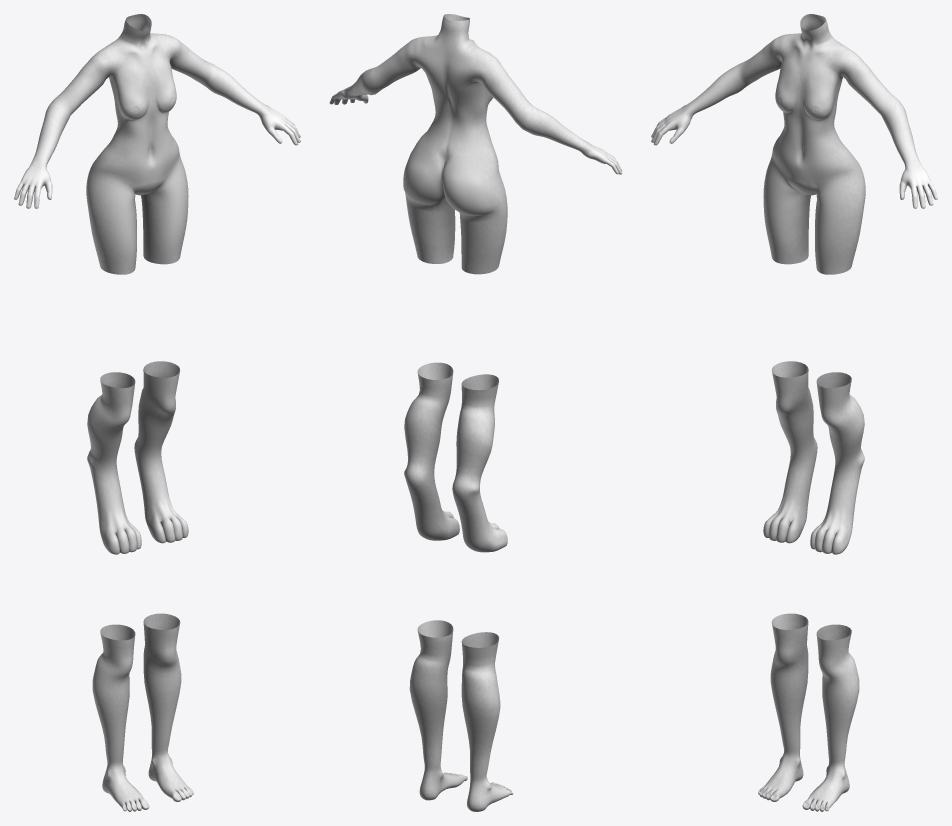
The model's file is MyBody substance painter AO Flat Chest.obj.
3 views of the same model, side by side, from view 1: azimuth 30°, elevation 25°; view 2: azimuth 150°, elevation 25°; view 3: azimuth 330°, elevation 25° (orthographic). The views are drawn at different scales.
Visible parts, largest first — view 1: Body, Digilegs, PlantiLegs; view 2: Body, Digilegs, PlantiLegs; view 3: Body, Digilegs, PlantiLegs.
Boxes of the visible parts, <box> form: Body: <box>14,14,300,274</box>; Digilegs: <box>87,361,188,554</box>; PlantiLegs: <box>92,613,193,811</box>; Body: <box>329,14,622,274</box>; Digilegs: <box>404,362,507,552</box>; PlantiLegs: <box>409,620,513,811</box>; Body: <box>651,14,937,274</box>; Digilegs: <box>763,361,864,554</box>; PlantiLegs: <box>758,613,859,811</box>.
Bounding box in the file's own units: 1.15 × 3 × 0.355.
1 material, 1 textured.
